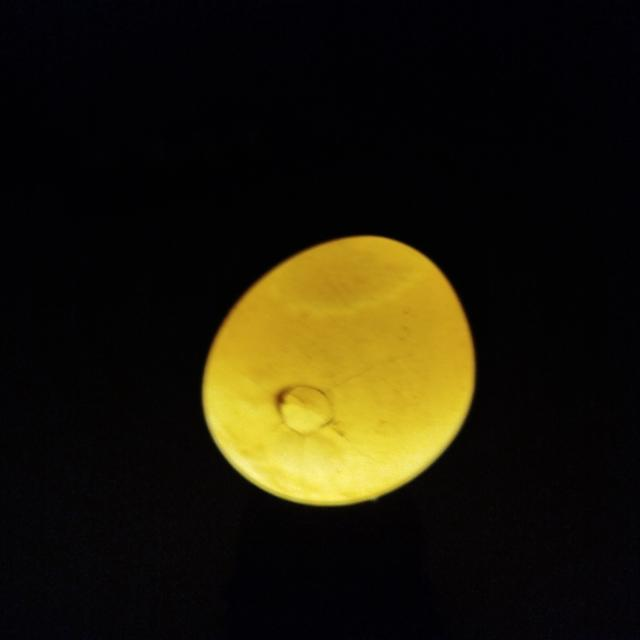Camara de Ar: (273, 236, 432, 312)
Rachadura: (244, 368, 369, 437)
